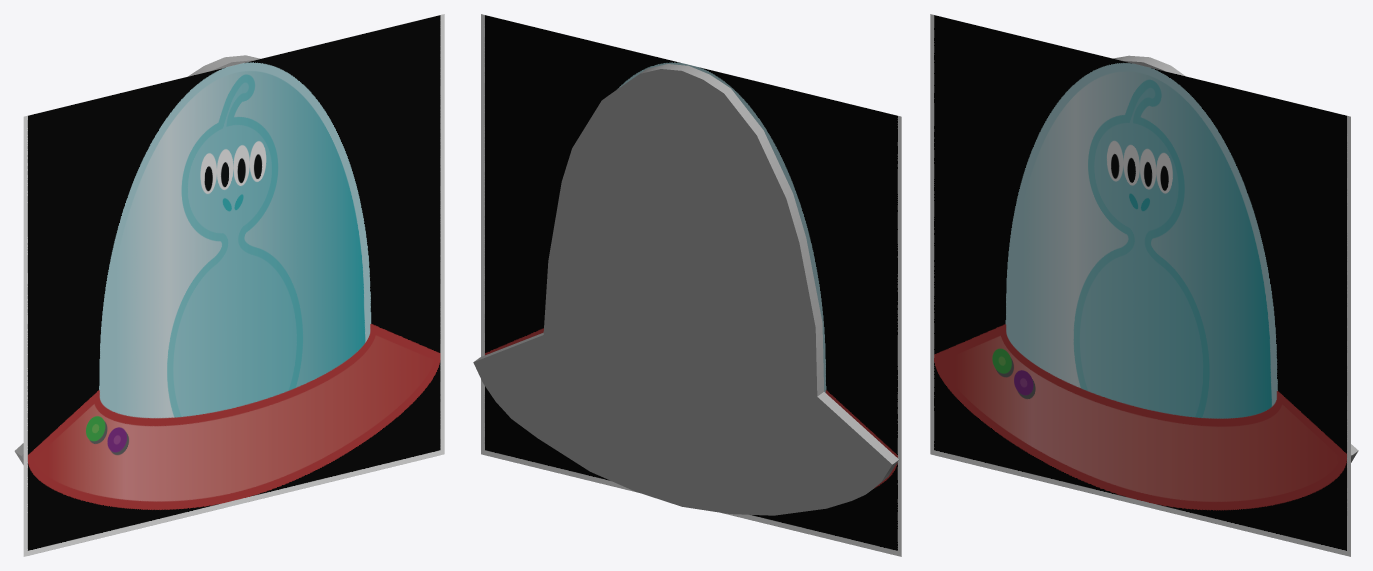
Rendered from Alien.fbx.
The picture shows the model from 3 angles, left to right: view 1: azimuth 30°, elevation 25°; view 2: azimuth 150°, elevation 25°; view 3: azimuth 330°, elevation 25°; orthographic projection.
Parts seen in each view (by area): view 1: pPlane1, pPlane2; view 2: pPlane2, pPlane1; view 3: pPlane1, pPlane2.
Part boxes in pixels (box(x1,y1,x2,y2)): pPlane1: box(23, 14, 444, 556); pPlane2: box(14, 55, 260, 464); pPlane2: box(473, 64, 898, 515); pPlane1: box(481, 14, 901, 556); pPlane1: box(930, 14, 1350, 556); pPlane2: box(1113, 55, 1358, 462).
Size of the model in its own units: 1 by 1 by 0.0383.
